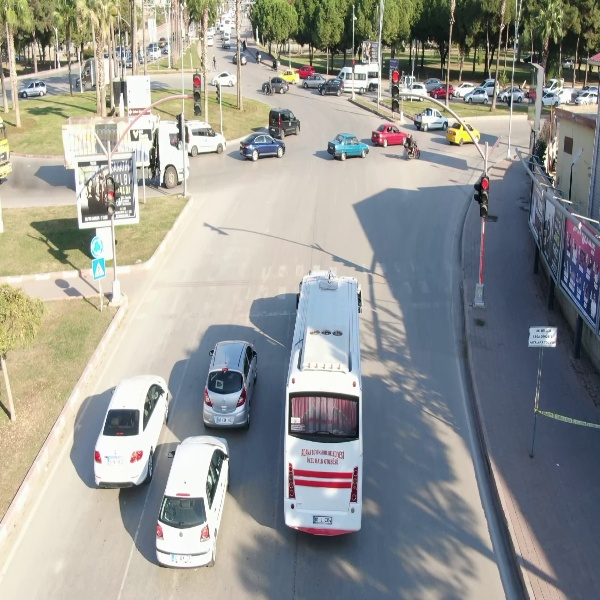car: (280, 268, 366, 541), (154, 430, 232, 572), (89, 373, 174, 493), (200, 338, 261, 430), (183, 118, 226, 159), (239, 131, 286, 164), (327, 132, 370, 163), (446, 117, 482, 147), (267, 106, 300, 138), (413, 106, 448, 134), (317, 76, 345, 101), (20, 78, 50, 101), (463, 85, 491, 107), (211, 69, 238, 89), (498, 86, 528, 104), (428, 83, 457, 101)
